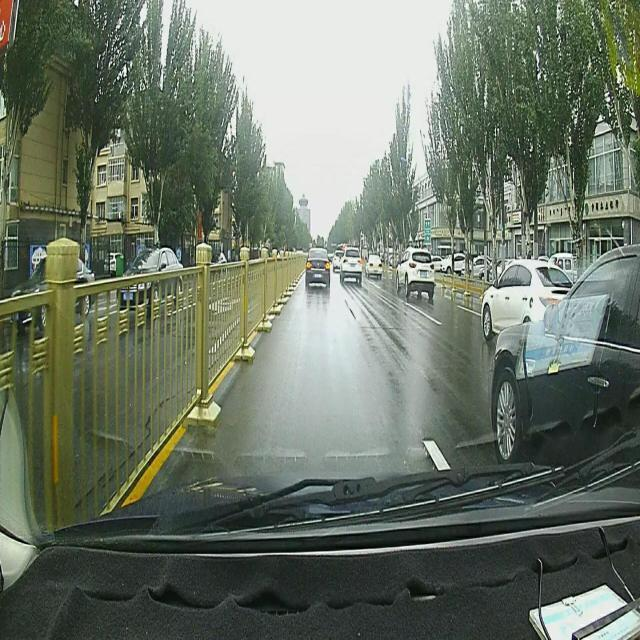car: (488, 242, 640, 468), (479, 261, 576, 343), (396, 246, 434, 296), (305, 246, 331, 287), (339, 248, 362, 282), (364, 255, 384, 277), (331, 252, 342, 270)
